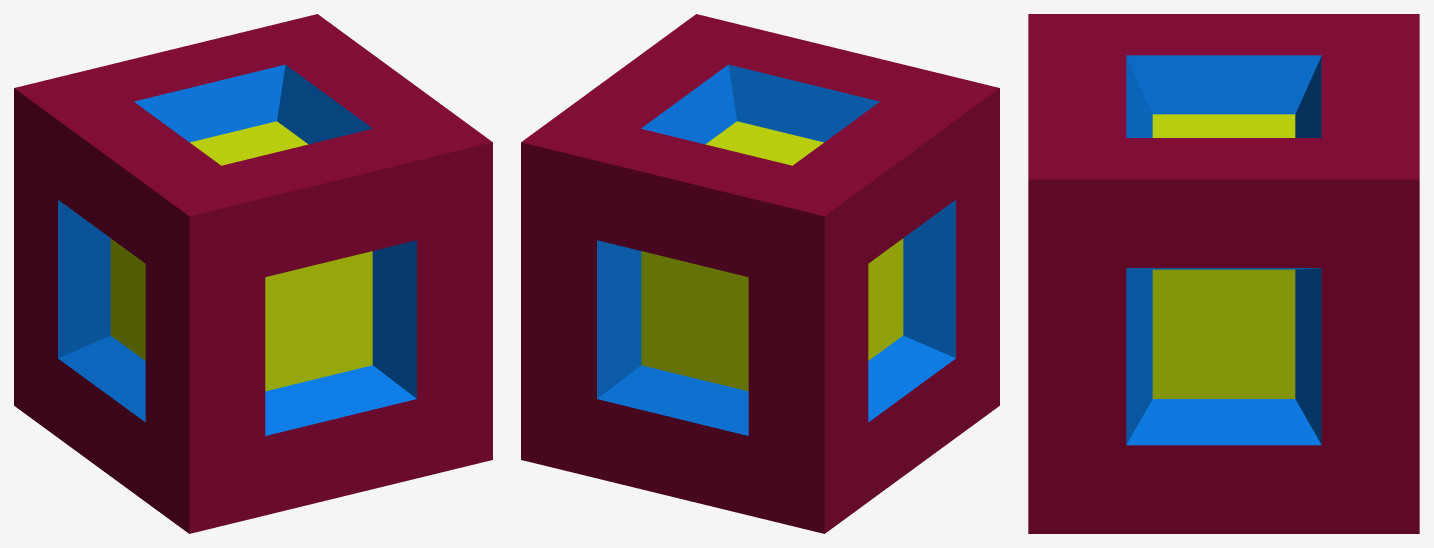
The model's file is color_cube_1.gltf.
3 renders of one model, left to right at view 1: azimuth 30°, elevation 25°; view 2: azimuth 150°, elevation 25°; view 3: azimuth 270°, elevation 25°, orthographic. The views are drawn at different scales.
Parts seen in each view (by area): view 1: Cube; view 2: Cube; view 3: Cube.
Part boxes in pixels (x1,y1,x2,y2): Cube: [14, 14, 492, 533]; Cube: [521, 14, 999, 533]; Cube: [1028, 14, 1419, 533].
Bounding box in the file's own units: 2 × 2 × 2.
